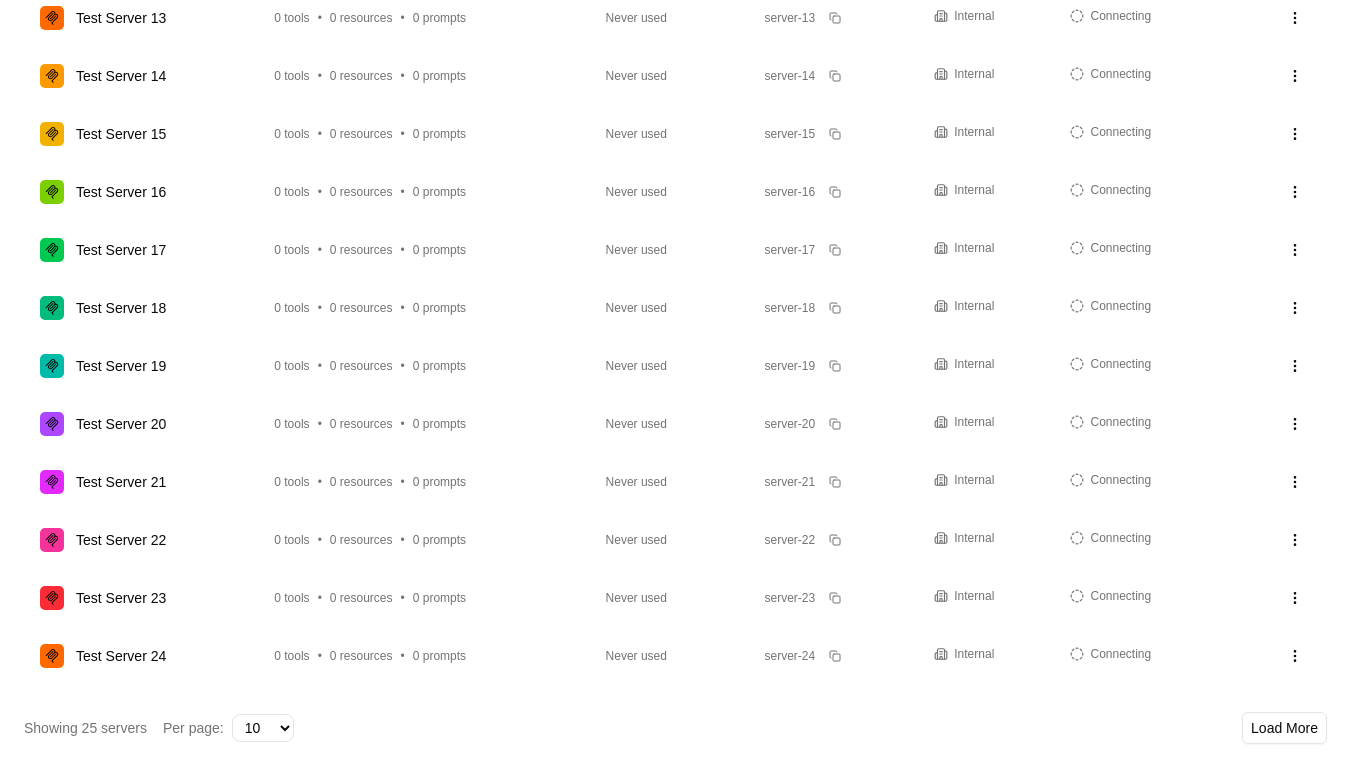
Test case: Servers › loads more servers when Load More button is clicked
The width and height of the screenshot is (1366, 757).
(page scrolled)
What coordinates should you click on to do the following:
click the button "Load More"
I would click on:
 (1285, 728)
Its box is [1242, 712, 1327, 744].
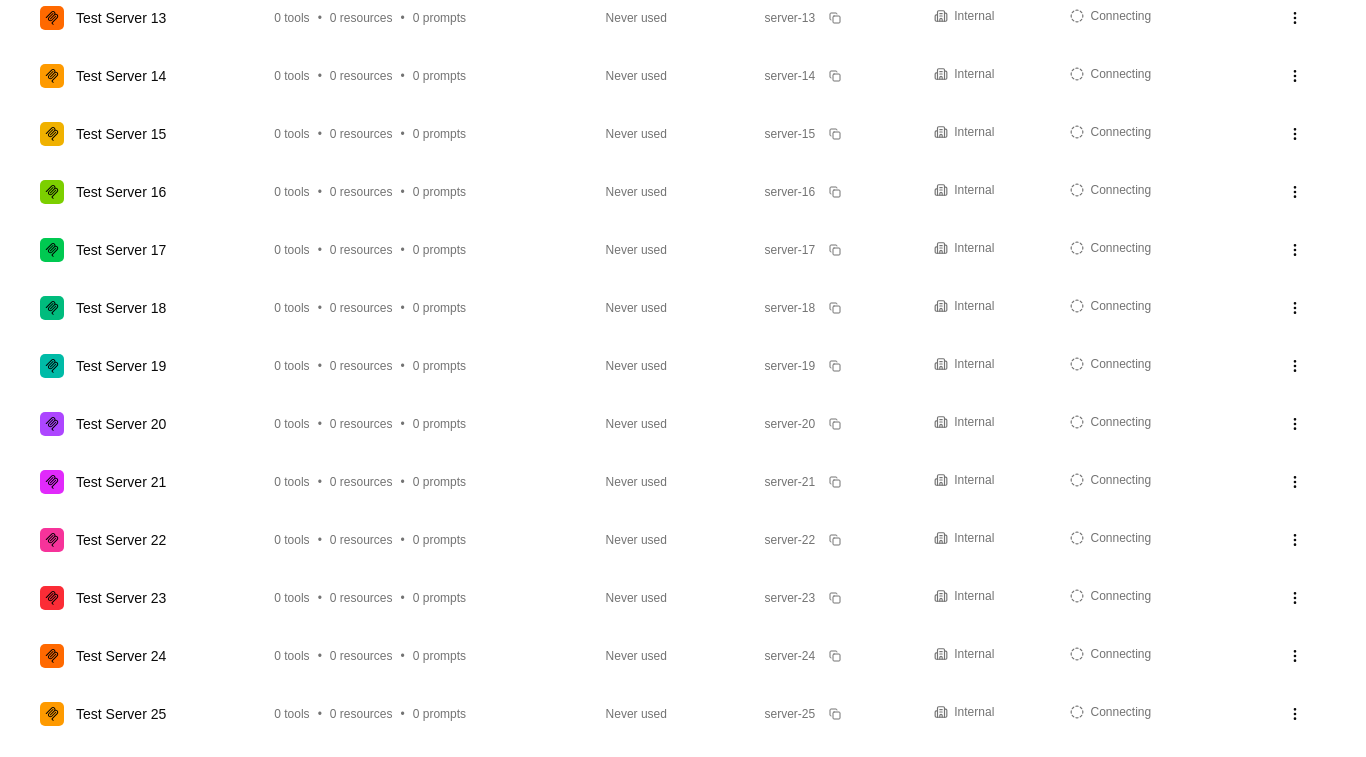
expect the text "Test Server 25" is shown: met, box [76, 704, 166, 724]
